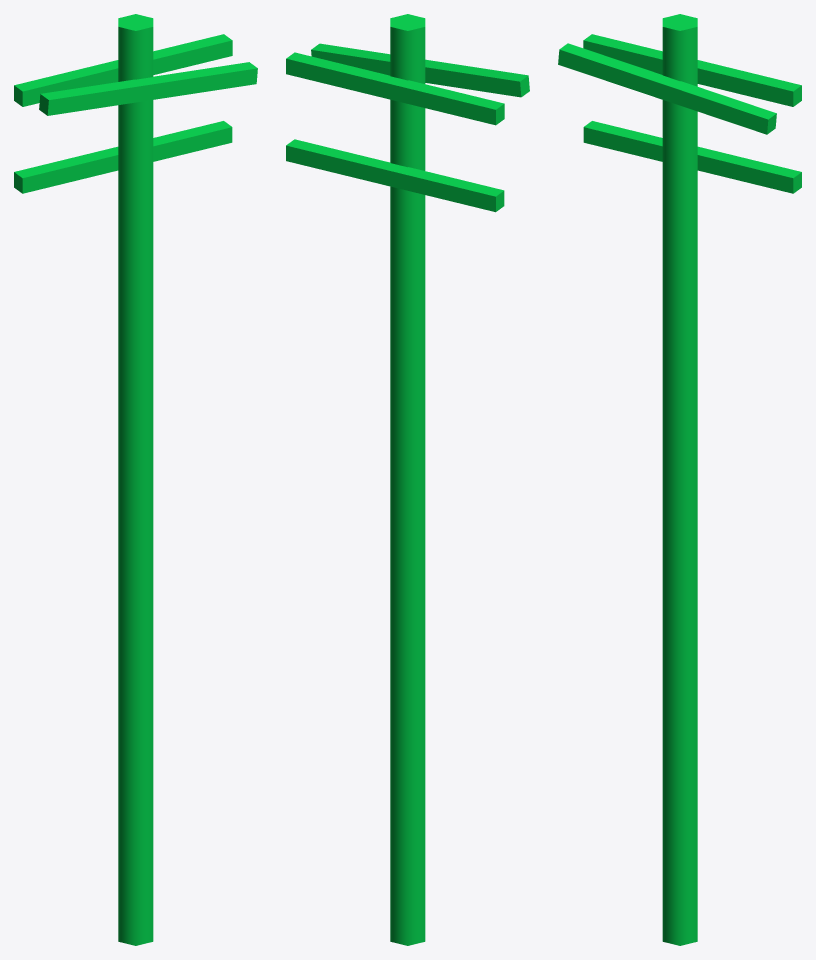
File: ElectricalPole02.fbx
3 views of the same model, side by side, from view 1: azimuth 30°, elevation 25°; view 2: azimuth 150°, elevation 25°; view 3: azimuth 330°, elevation 25° (orthographic).
Visible parts, largest first — view 1: ElectricalPole02; view 2: ElectricalPole02; view 3: ElectricalPole02.
Part boxes in pixels (bbox=[...]): ElectricalPole02: bbox=[14, 14, 257, 945]; ElectricalPole02: bbox=[286, 14, 529, 945]; ElectricalPole02: bbox=[558, 14, 801, 945].
Bounding box in the file's own units: 241 × 1000 × 67.02.
